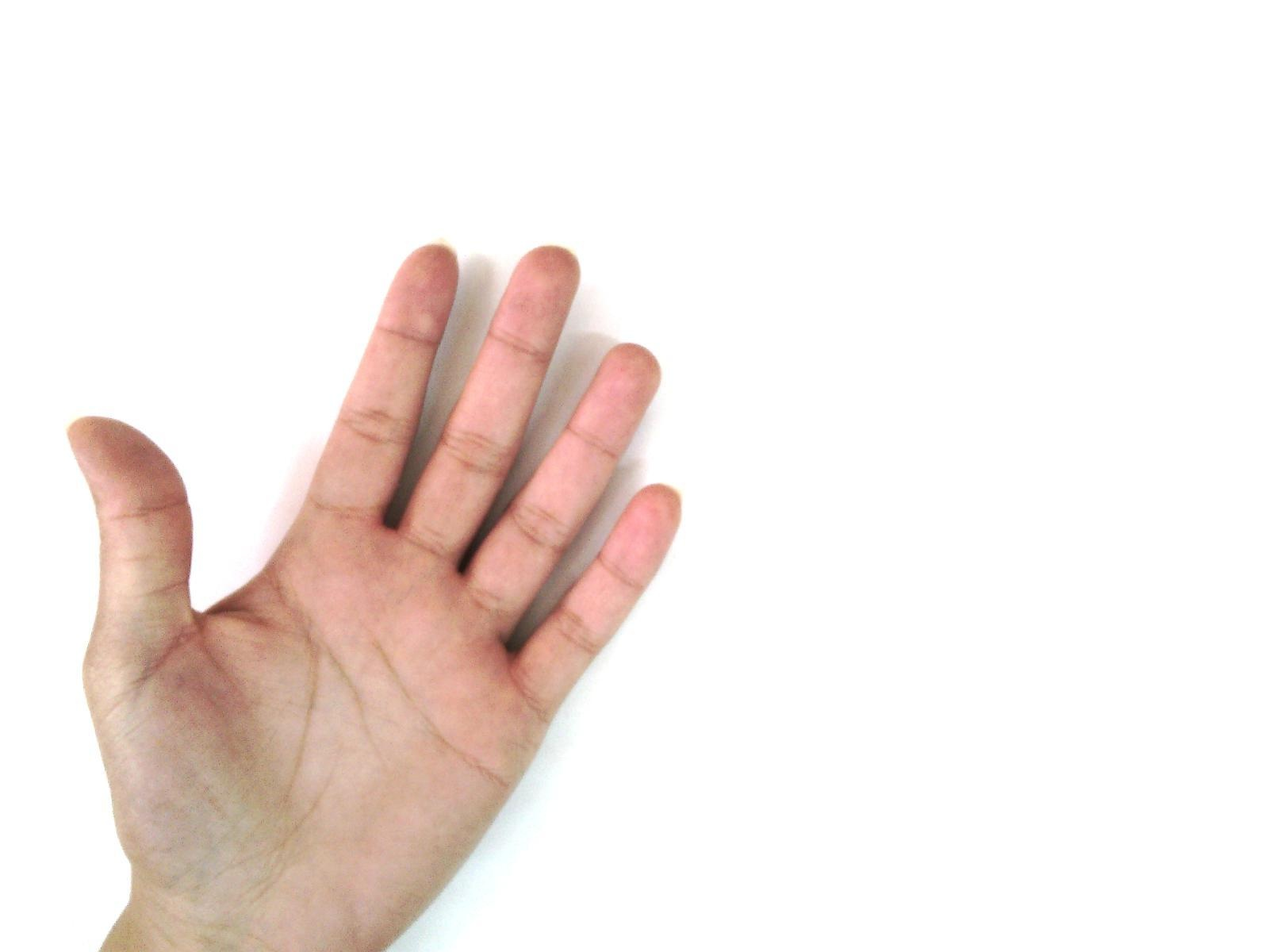open_palm: (65, 240, 685, 950)
